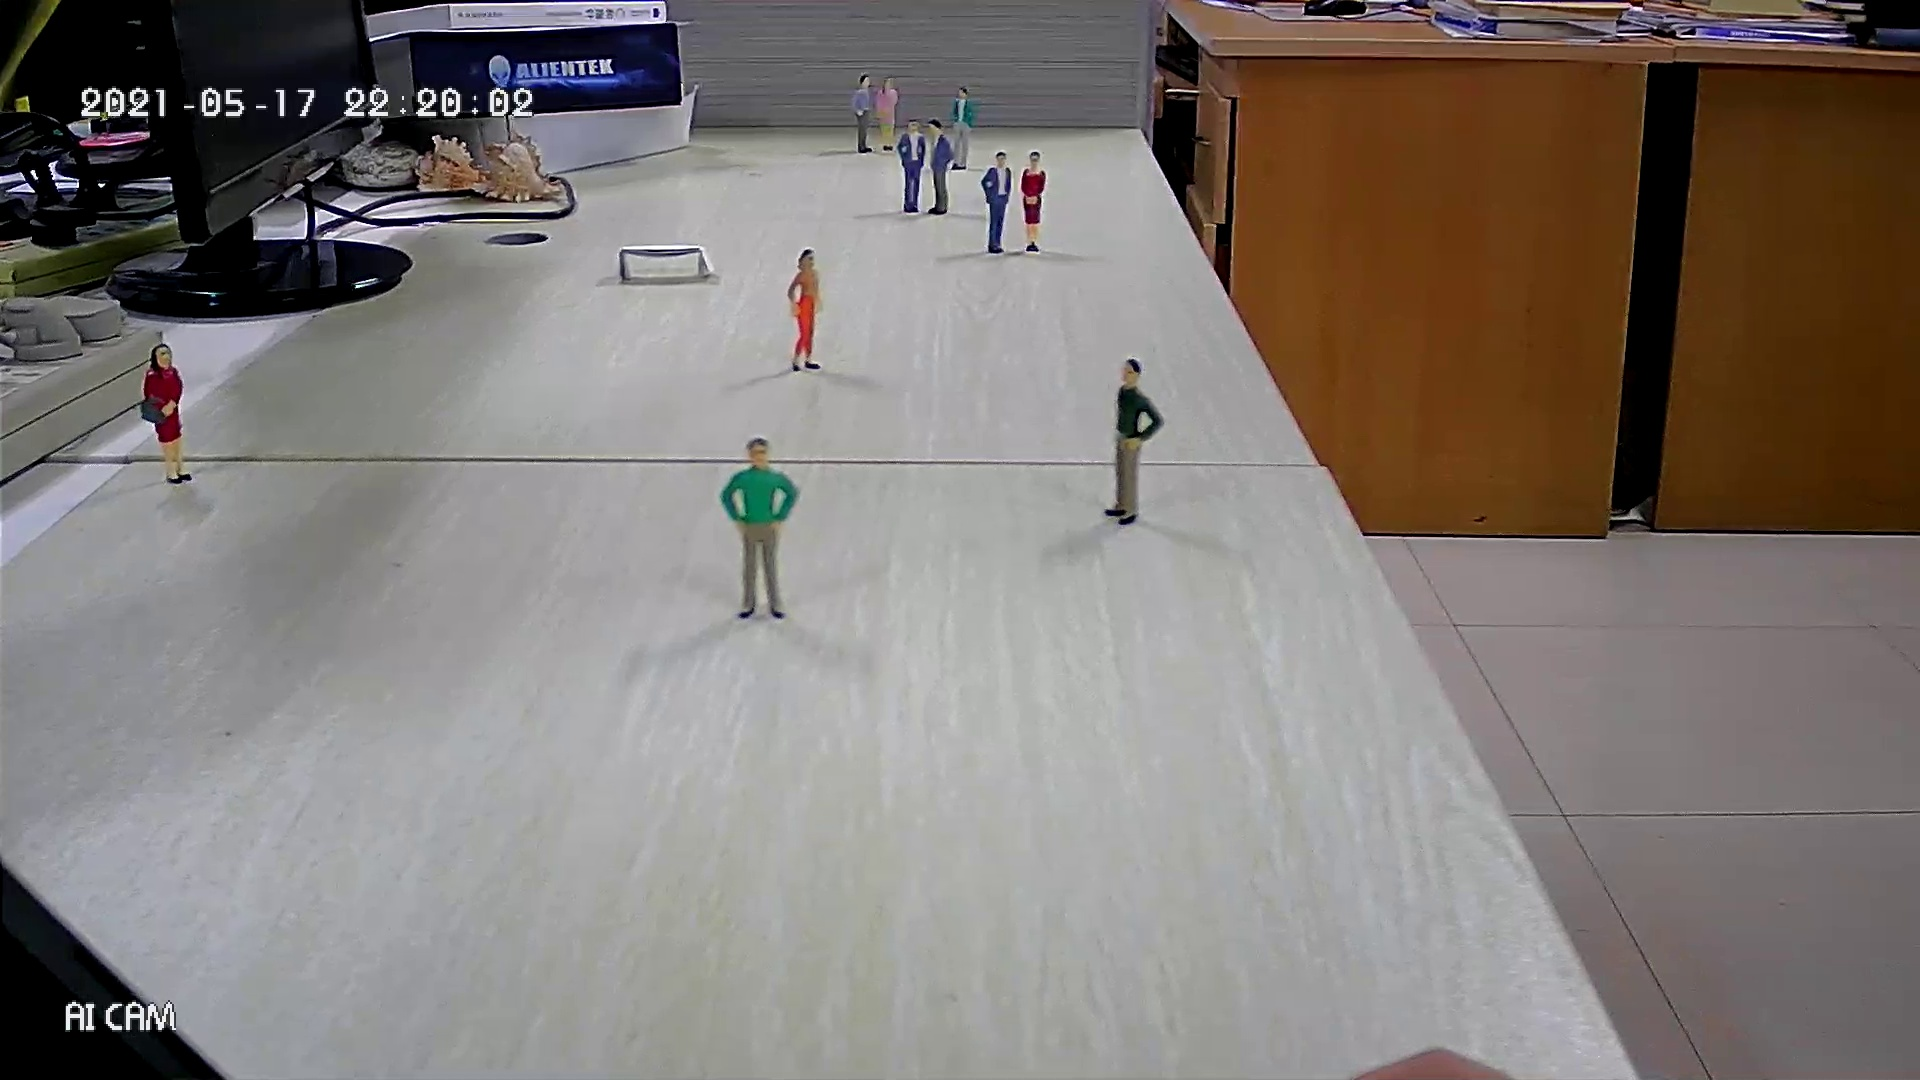person: (720, 437, 800, 620), (1103, 356, 1166, 526), (140, 341, 196, 486), (787, 248, 823, 373), (979, 150, 1013, 255), (897, 117, 927, 214), (1019, 149, 1046, 252), (926, 118, 954, 215), (950, 84, 976, 171), (849, 73, 874, 155), (875, 77, 900, 152)
